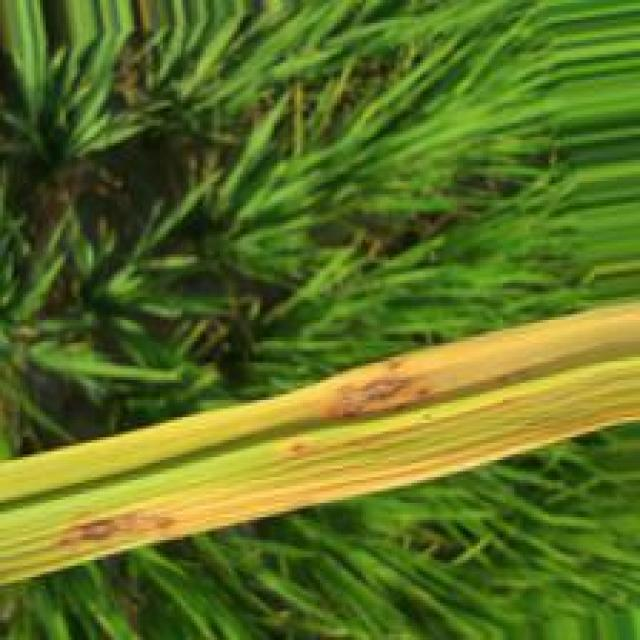Leaf_Blast: (0, 299, 640, 502), (44, 443, 524, 569)
